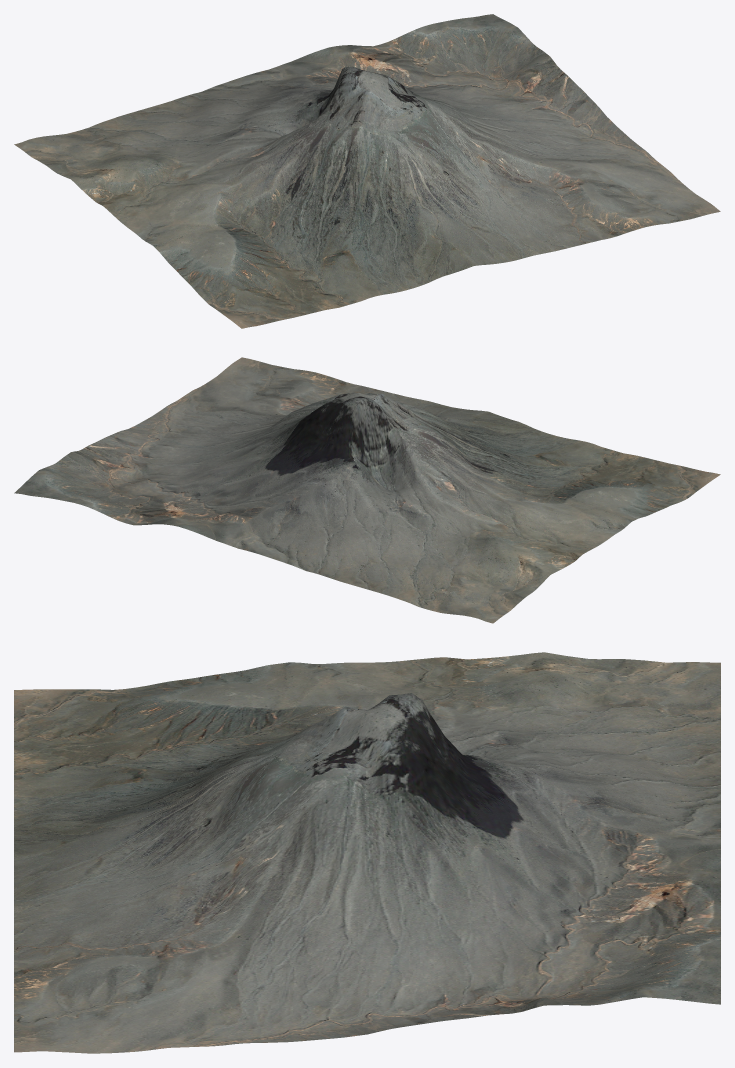
3 views of the same model, one above another, from view 1: azimuth 30°, elevation 25°; view 2: azimuth 150°, elevation 25°; view 3: azimuth 270°, elevation 25° (orthographic). The views are drawn at different scales.
Visible parts, largest first — view 1: Object_2; view 2: Object_2; view 3: Object_2.
Part boxes in pixels (x1=…): Object_2: x1=14, y1=14, x2=720, y2=328; Object_2: x1=14, y1=357, x2=720, y2=623; Object_2: x1=14, y1=652, x2=720, y2=1053.
Size of the model in its own units: 1299 by 296 by 1070.
Materials: 1 (1 with a texture image).
